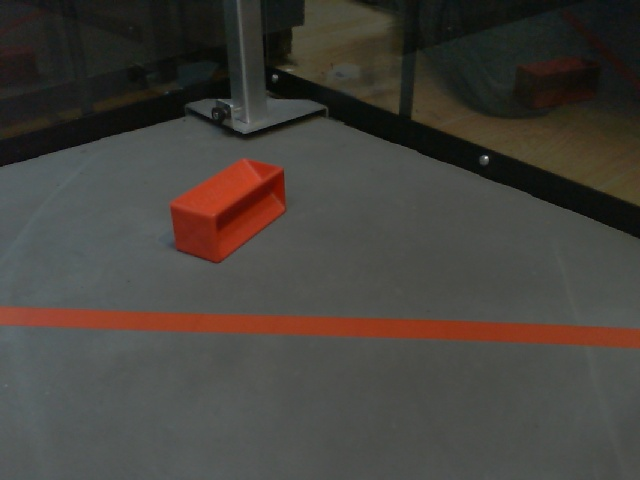RedSample: (166, 156, 289, 261)
